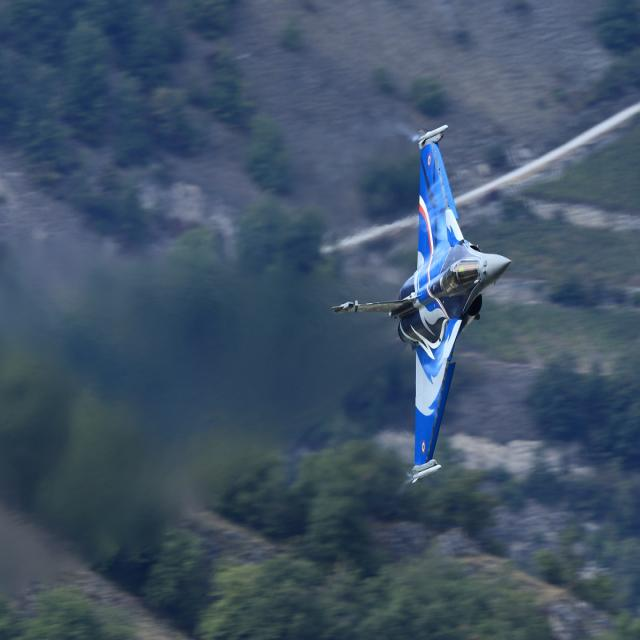MIL_Plane: (331, 124, 512, 484)
